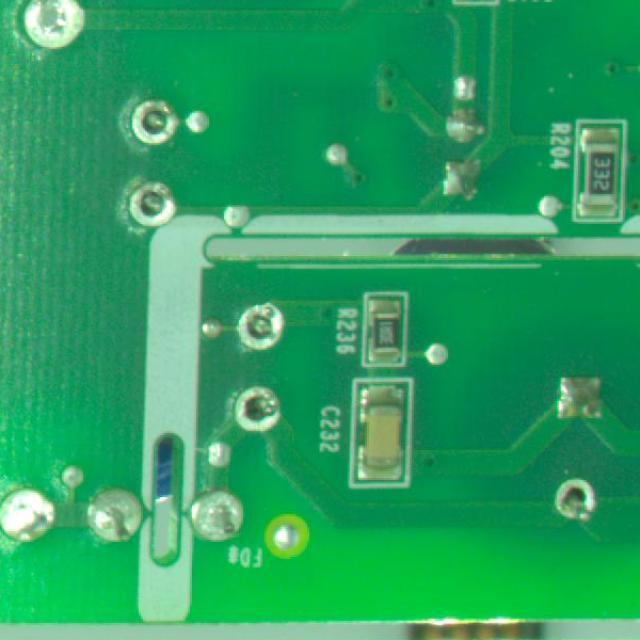Insufficient solder: (15, 0, 86, 63), (226, 372, 288, 442), (0, 483, 60, 545), (230, 296, 286, 356), (124, 173, 180, 230), (543, 470, 602, 524), (124, 94, 180, 150)
